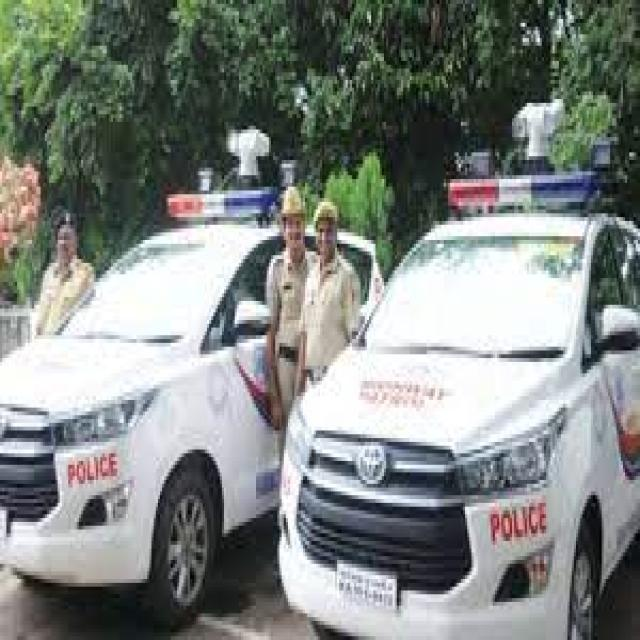Police: (354, 145, 640, 640), (0, 167, 294, 625)
